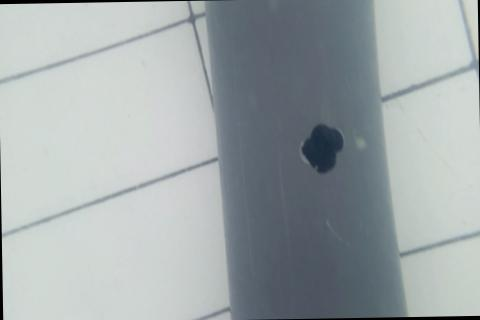kebocoran: (297, 121, 346, 176)
